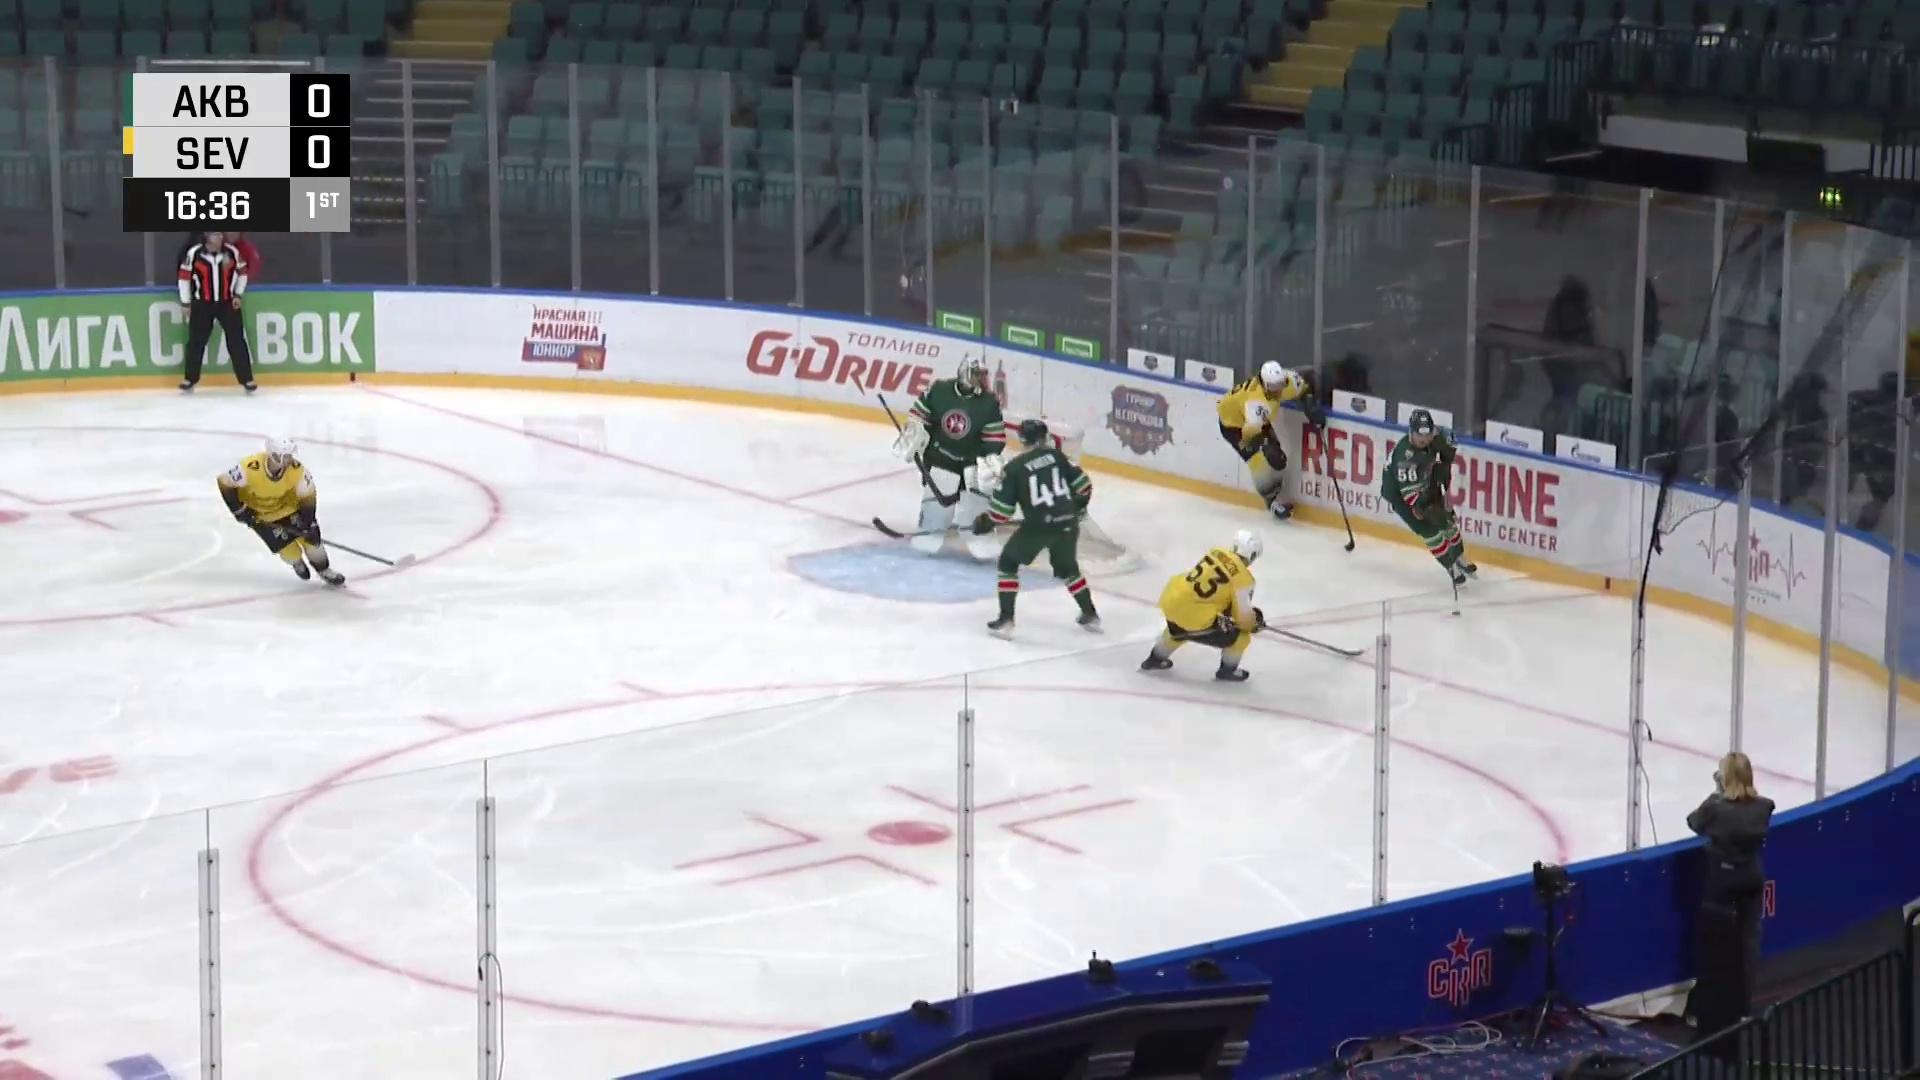ball: (1451, 609, 1464, 617)
